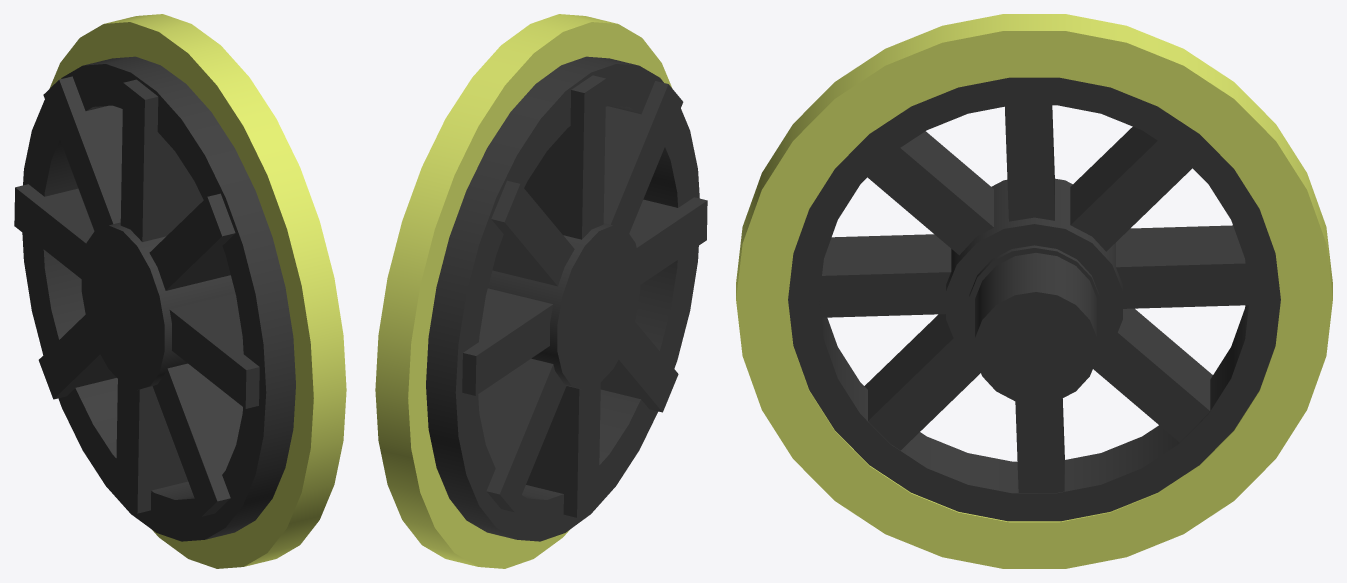
File: Loc_r1.fbx
3 renders of one model, left to right at view 1: azimuth 30°, elevation 25°; view 2: azimuth 150°, elevation 25°; view 3: azimuth 270°, elevation 25°, orthographic. The views are drawn at different scales.
Visible parts, largest first — view 1: Tube016; view 2: Tube016; view 3: Tube016.
Boxes of the visible parts, <box> form: Tube016: <box>14,14,346,568</box>; Tube016: <box>375,14,707,568</box>; Tube016: <box>736,14,1332,568</box>.
Size of the model in its own units: 222 by 619 by 622.
